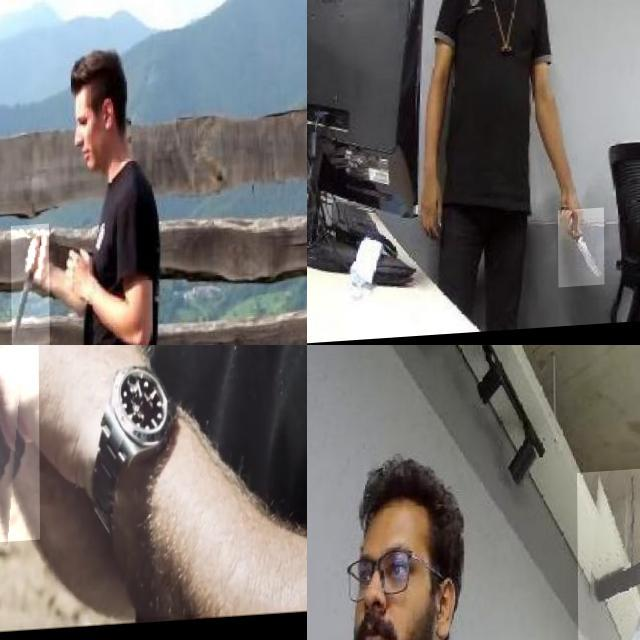-: (576, 471, 640, 640), (10, 228, 48, 345), (558, 213, 604, 292)
gun-knife-thesis - v11 Yolov5 augmented: (0, 345, 106, 604)
